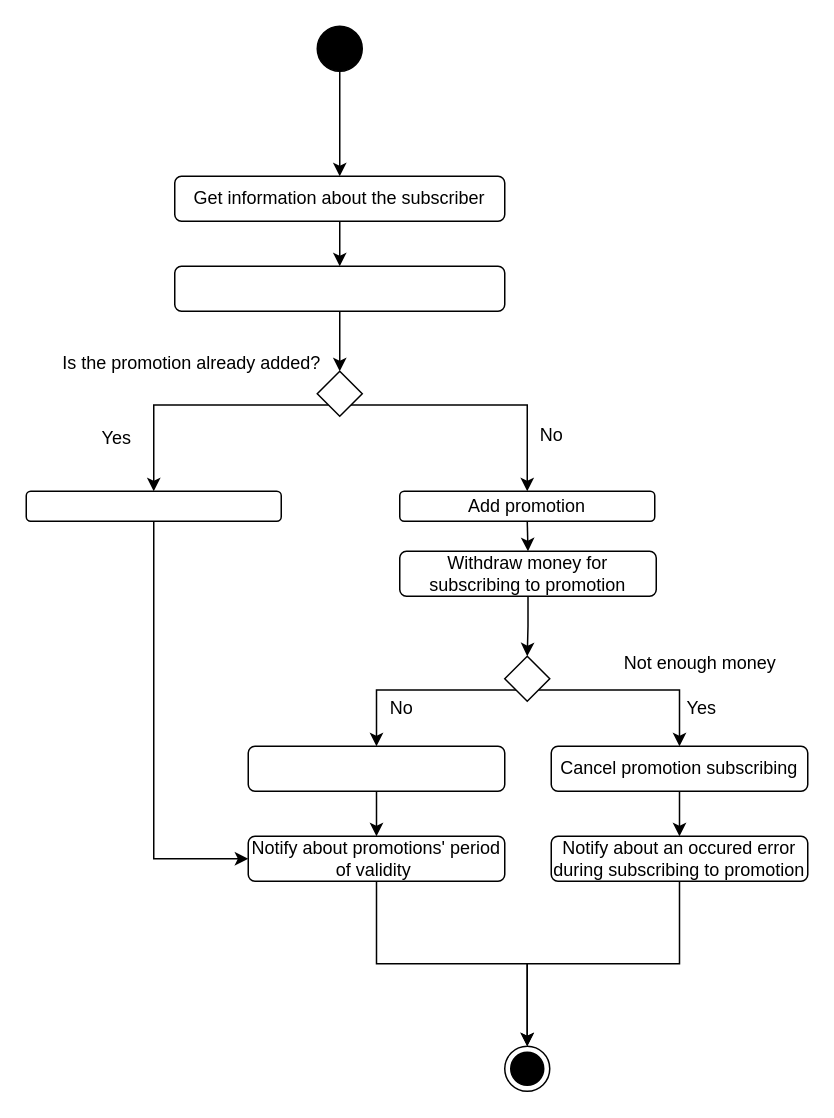
This 834x1118 diagram has some shape labels left out. Here are the shapes that lost their labels. From the top down, the box of each, then its label:
(173, 265, 505, 311): Check subscribers' promotions
(25, 490, 281, 521): Prolong promotion
(247, 745, 505, 791): Notify about subscribing to promotion
